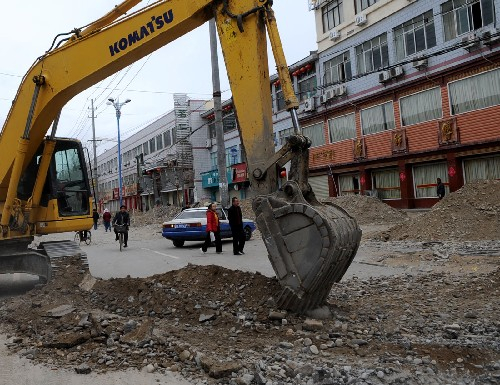excavator: (1, 1, 371, 319)
